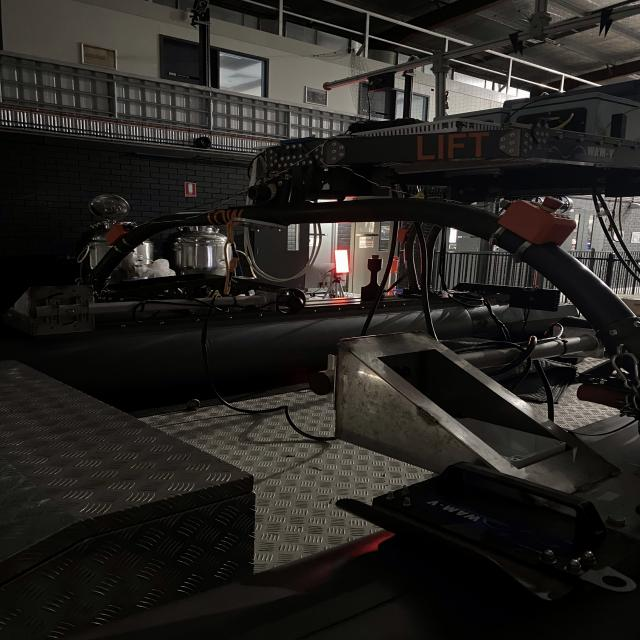matrix: (327, 240, 357, 278)
